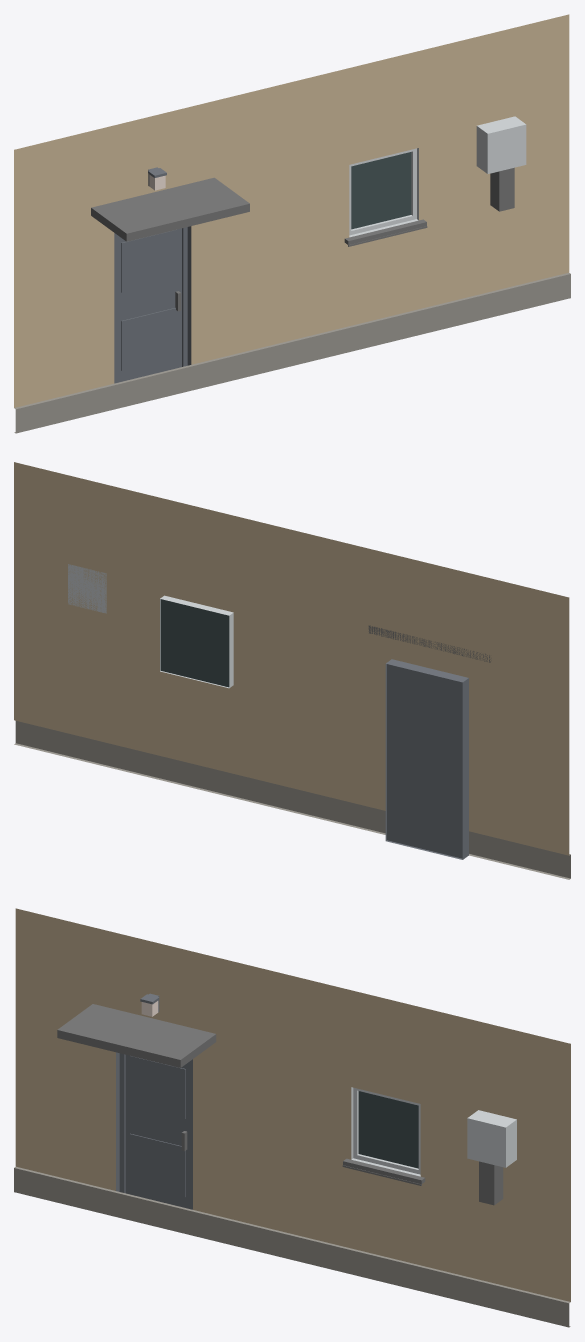
Rendered from base-w3_close.fbx.
3 renders of one model, top to bottom at view 1: azimuth 30°, elevation 25°; view 2: azimuth 150°, elevation 25°; view 3: azimuth 330°, elevation 25°, orthographic.
Visible parts, largest first — view 1: a2009/200/base-w3_close; view 2: a2009/200/base-w3_close; view 3: a2009/200/base-w3_close.
Boxes of the visible parts, x1=… form: a2009/200/base-w3_close: x1=14, y1=14, x2=570, y2=433; a2009/200/base-w3_close: x1=14, y1=462, x2=570, y2=879; a2009/200/base-w3_close: x1=14, y1=908, x2=570, y2=1327.
Size of the model in its own units: 7.2 by 3.5 by 0.94.
